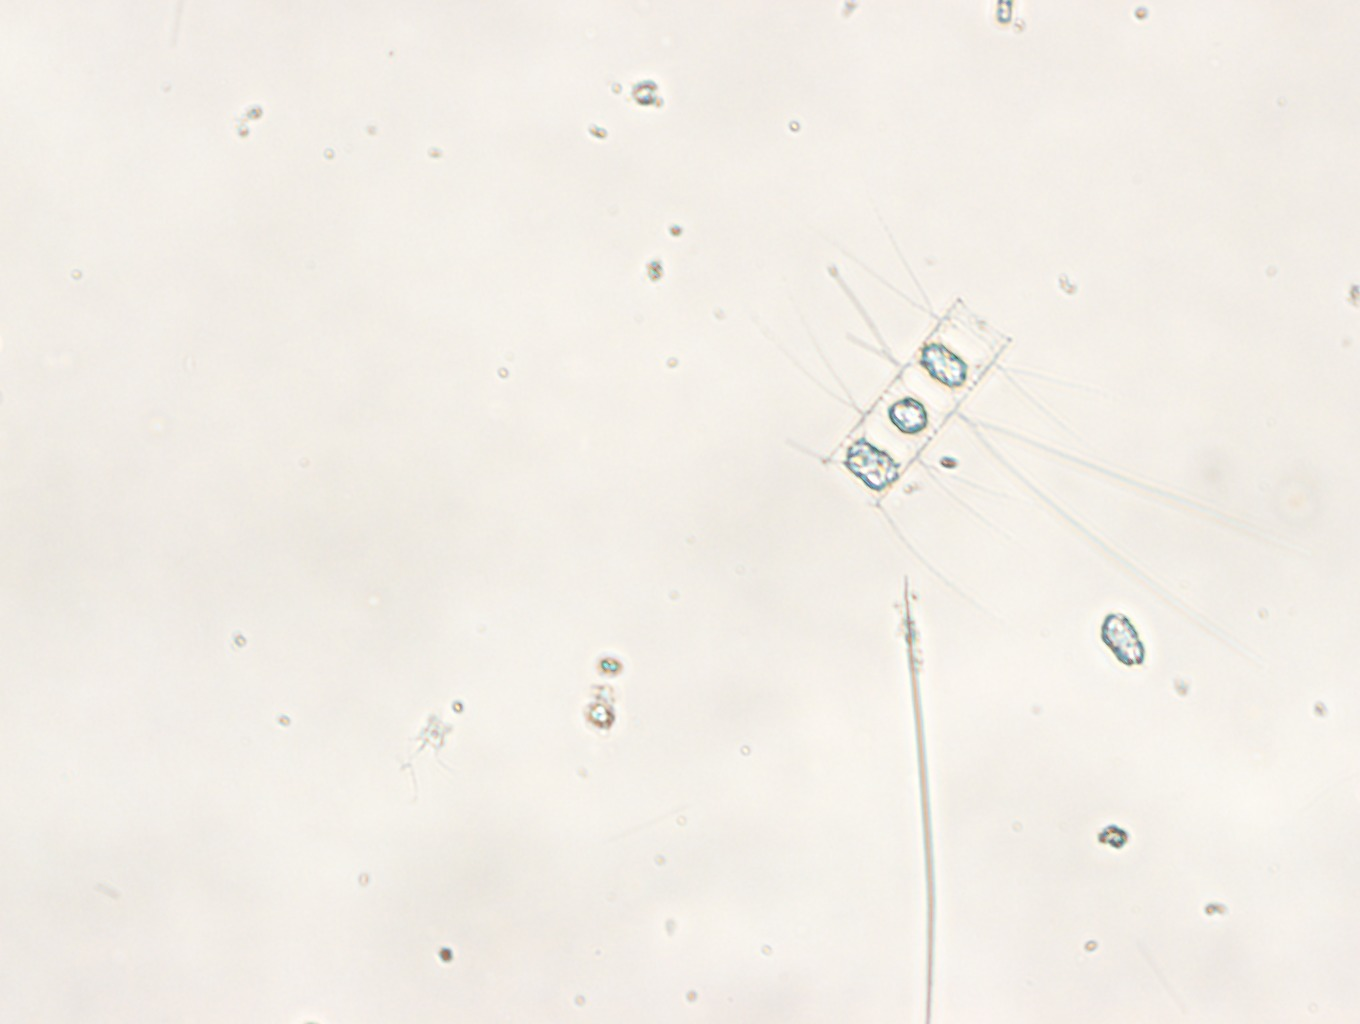chaetoceros: (763, 222, 1268, 618)
